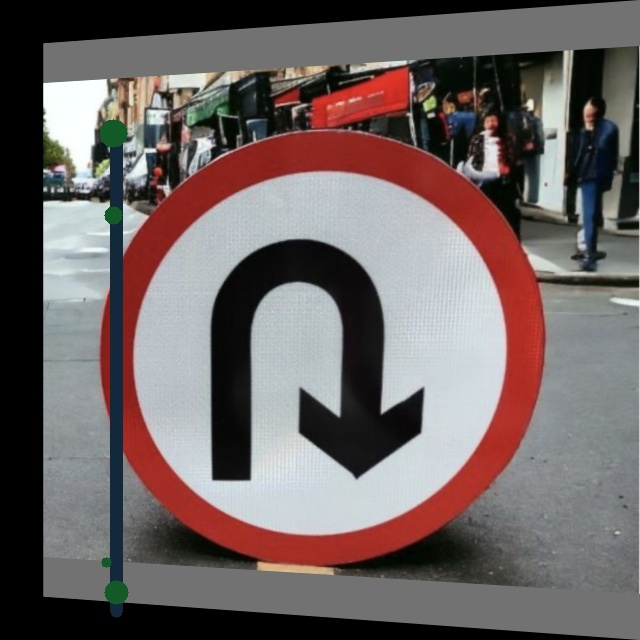U_Turn_Ahead: (147, 175, 514, 539)
